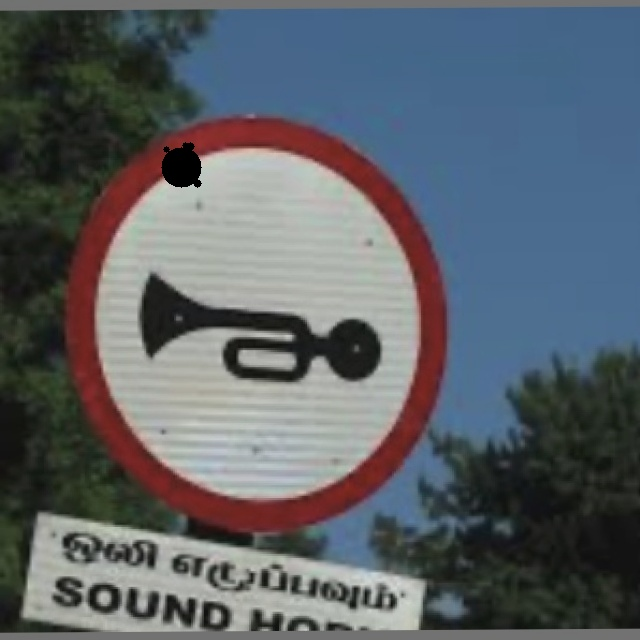Compulsory_Sound_Horn: (92, 128, 447, 500)
